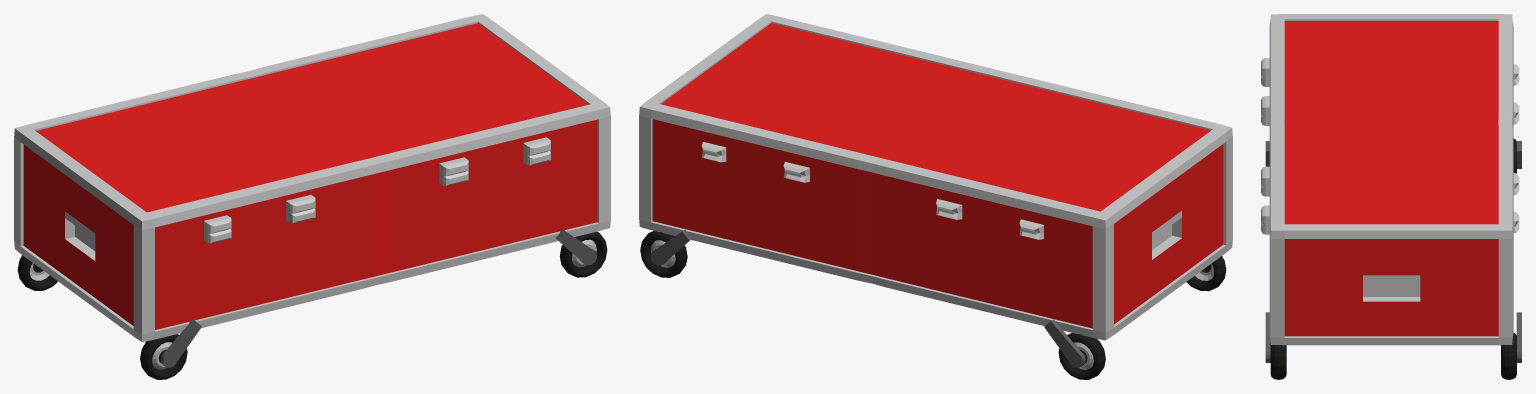
The model's file is LargeWheelBox 1.fbx.
3 views of the same model, side by side, from view 1: azimuth 30°, elevation 25°; view 2: azimuth 150°, elevation 25°; view 3: azimuth 270°, elevation 25° (orthographic). The views are drawn at different scales.
Parts seen in each view (by area): view 1: LargeWhellBox; view 2: LargeWhellBox; view 3: LargeWhellBox.
Boxes of the visible parts, x1,y1,x2,y2 form: LargeWhellBox: (14, 14, 610, 379); LargeWhellBox: (639, 14, 1232, 379); LargeWhellBox: (1261, 14, 1521, 379).
Size of the model in its own units: 199 by 67.67 by 101.
